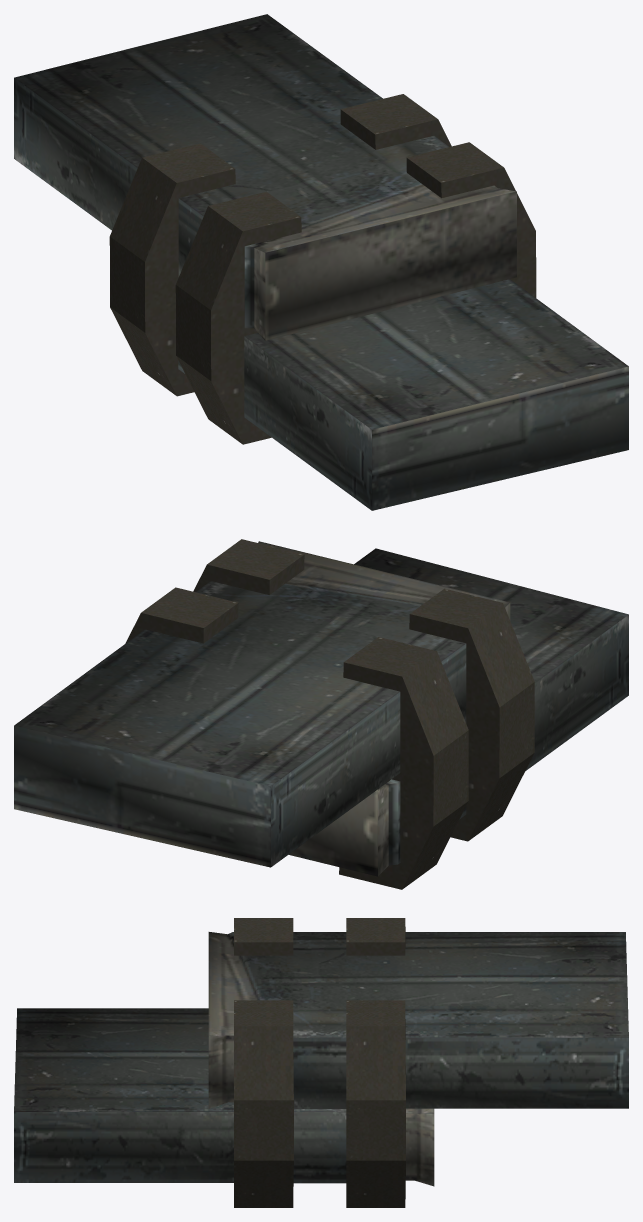
The model's file is t6_attach_fastmag_scar_world_LOD0.obj.
3 renders of one model, top to bottom at view 1: azimuth 30°, elevation 25°; view 2: azimuth 150°, elevation 25°; view 3: azimuth 270°, elevation 25°, orthographic. The views are drawn at different scales.
Visible parts, largest first — view 1: mtl_t6_wpn_ar_scarh_camo1; view 2: mtl_t6_wpn_ar_scarh_camo1; view 3: mtl_t6_wpn_ar_scarh_camo1.
Part boxes in pixels (x1,y1,x2,y2): mtl_t6_wpn_ar_scarh_camo1: [14, 14, 628, 510]; mtl_t6_wpn_ar_scarh_camo1: [14, 539, 628, 889]; mtl_t6_wpn_ar_scarh_camo1: [14, 918, 628, 1207].
Bounding box in the file's own units: 10.07 × 6.31 × 19.4.
